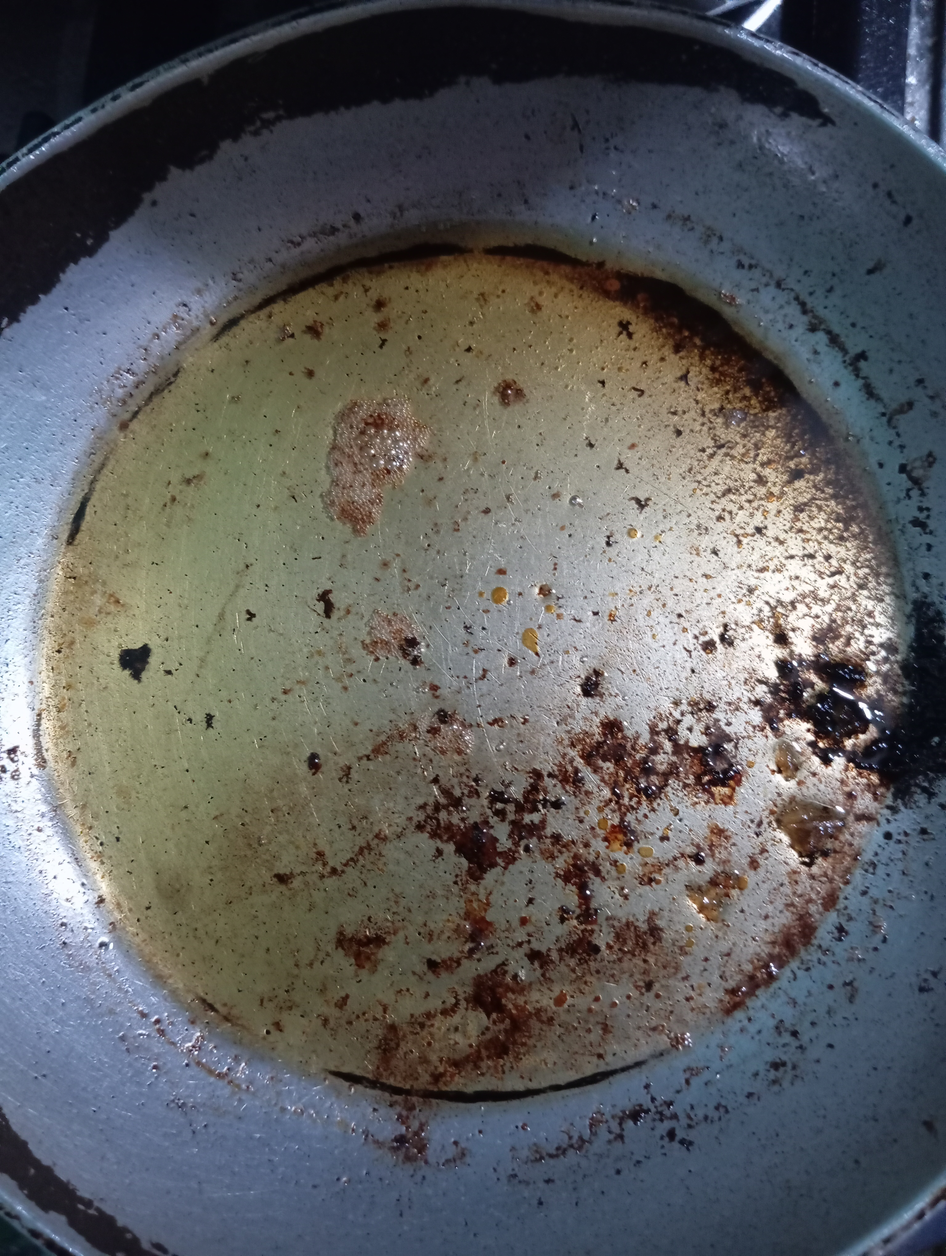non-reusable: (40, 244, 894, 1091)
